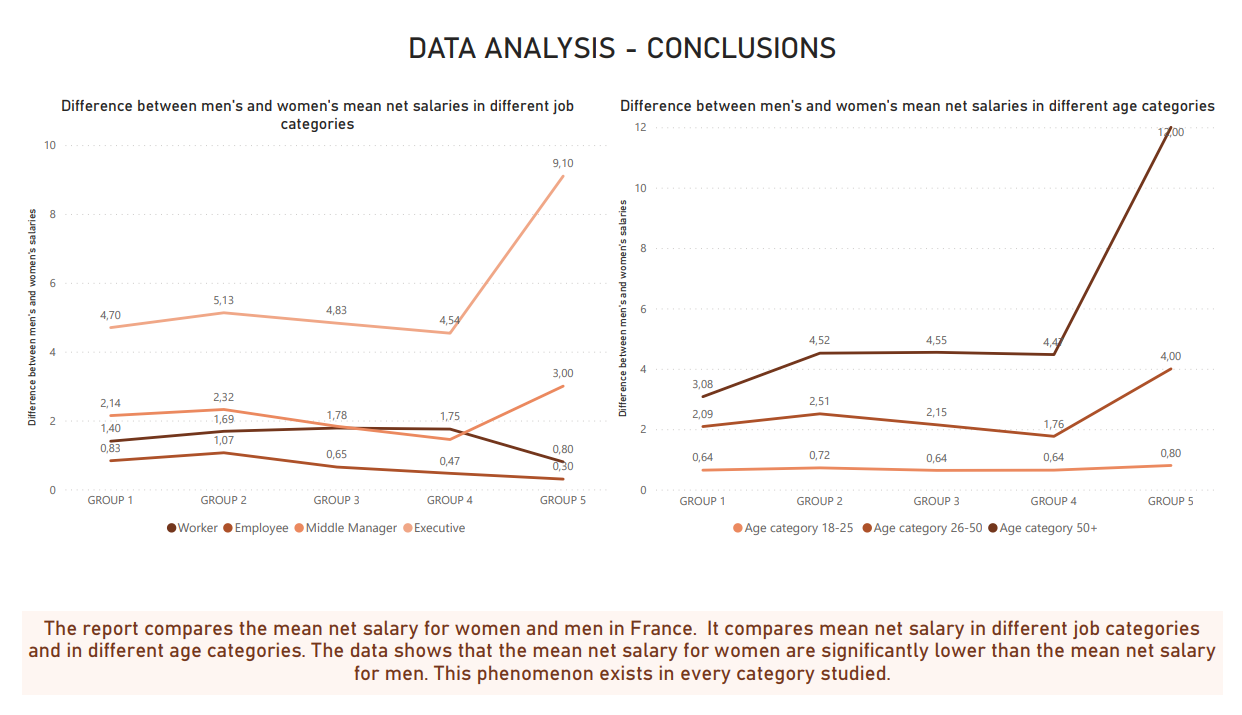

What the dashboard file says about the page in this screenshot:
{"tool":"powerbi","page":{"name":"Page 4","canvas":[1280,720],"ordinal":4},"visuals":[{"type":"lineChart","title":"Difference between men''s  and women''s mean net salaries in different job categories","fields":{"Category":["mean net in different jobs and ages for women and men.GROUP"],"Y":["Sum(mean net in different jobs and ages for women and men.DIFFERENCE WORKER ABS)","Sum(mean net in different jobs and ages for women and men.DIFFERENCE EMPLOYEE ABS)","Sum(mean net in different jobs and ages for women and men.DIFFERENCE MIDDLE MANAGER ABS)","Sum(mean net in different jobs and ages for women and men.DIFFERENCE EXECUTIVE ABS)"]},"box":[0,82.3,629.8,478.9],"z":0},{"type":"lineChart","title":"Difference between men''s  and women''s mean net salaries in different age categories","fields":{"Category":["mean net in different jobs and ages for women and men.GROUP"],"Y":["Sum(mean net in different jobs and ages for women and men.DIFFERENCE 18-25 ABS)","Sum(mean net in different jobs and ages for women and men.DIFFERENCE 26-50 ABS)","Sum(mean net in different jobs and ages for women and men.DIFFERENCE 50+ ABS)"]},"box":[629.8,82.3,650.4,478.9],"z":1000},{"type":"textbox","title":"DATA ANALYSIS - CONCLUSIONS","box":[0,12.3,1280.3,41.2],"z":2000},{"type":"textbox","box":[0,630.8,1279.9,89.2],"z":3000}]}

Visuals, with their boxes in screenshot pixels (x1, y1, x2, y2), scaled from the page's 1280x720 canvas onto the 1242x715 screenshot:
"Difference between men''s  and women''s mean net salaries in different job categories" lineChart: (0, 82, 611, 557)
"Difference between men''s  and women''s mean net salaries in different age categories" lineChart: (611, 82, 1241, 557)
"DATA ANALYSIS - CONCLUSIONS" textbox: (0, 12, 1241, 53)
textbox: (0, 626, 1241, 714)
